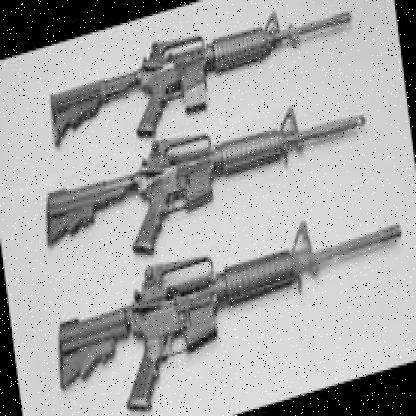rifle: (49, 188, 416, 416), (33, 78, 379, 274), (38, 0, 360, 163)
